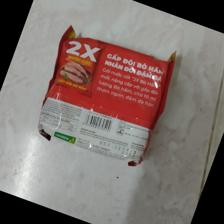3mien: (34, 24, 177, 168)
